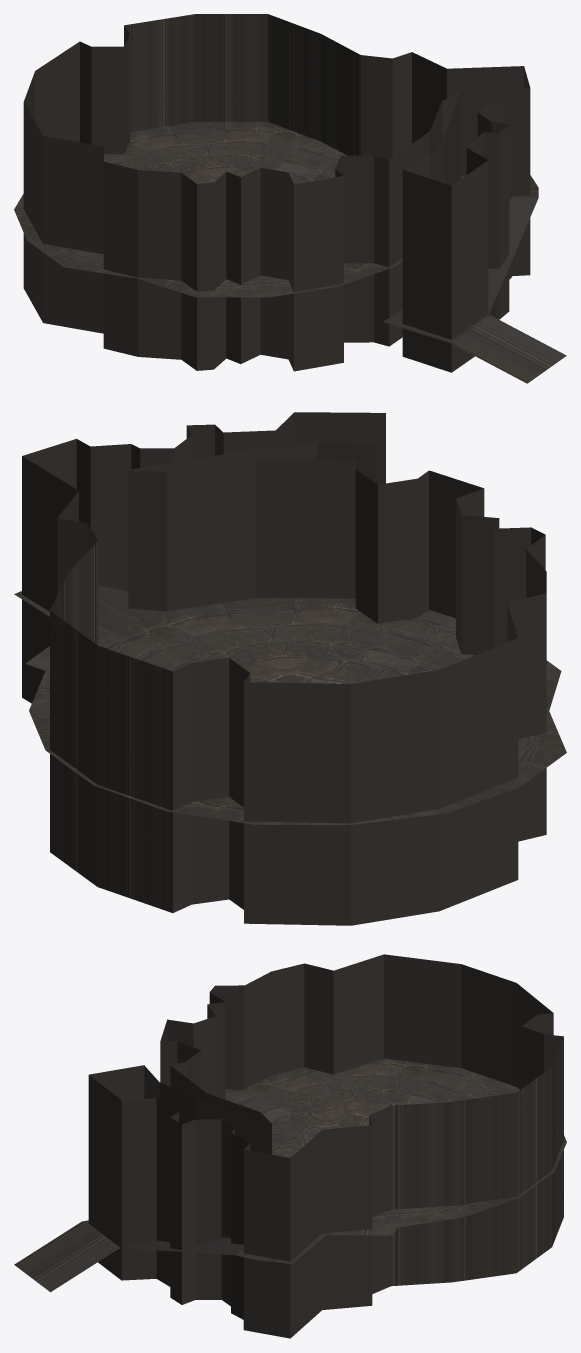
Rendered from fengbaozhita_02_pz.FBX.
The picture shows the model from 3 angles, top to bottom: view 1: azimuth 30°, elevation 25°; view 2: azimuth 150°, elevation 25°; view 3: azimuth 270°, elevation 25°; orthographic projection. The views are drawn at different scales.
Visible parts, largest first — view 1: fengbaozhita_02_pz; view 2: fengbaozhita_02_pz; view 3: fengbaozhita_02_pz.
Part boxes in pixels (left/top/right/bottom): fengbaozhita_02_pz: left=14, top=14, right=566, bottom=383; fengbaozhita_02_pz: left=14, top=412, right=566, bottom=925; fengbaozhita_02_pz: left=14, top=954, right=566, bottom=1338.
Size of the model in its own units: 4340 by 1738 by 4826.
